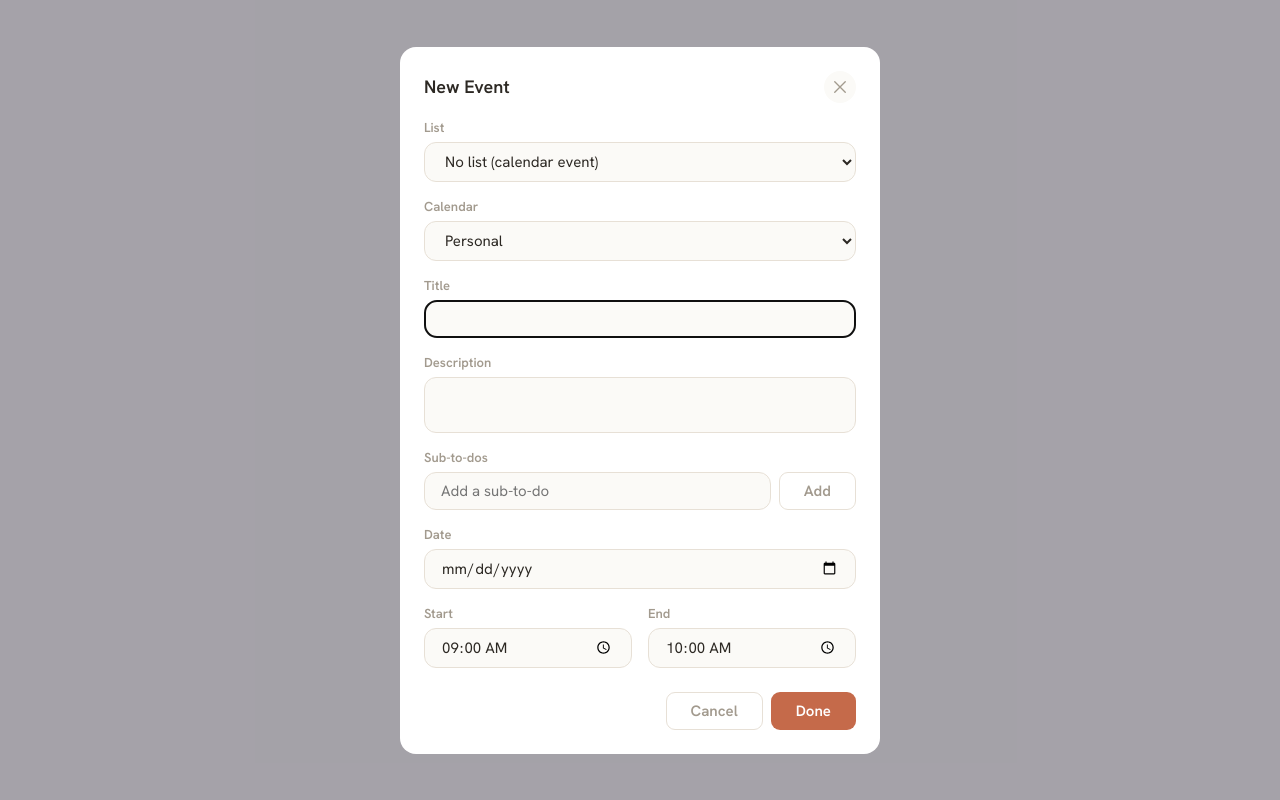
Test case: PlanItemModal › rejects a calendar event whose end is before its start
The width and height of the screenshot is (1280, 800).
In the field labelled "Title": (640, 318) [424,300,856,338], type "Meeting"
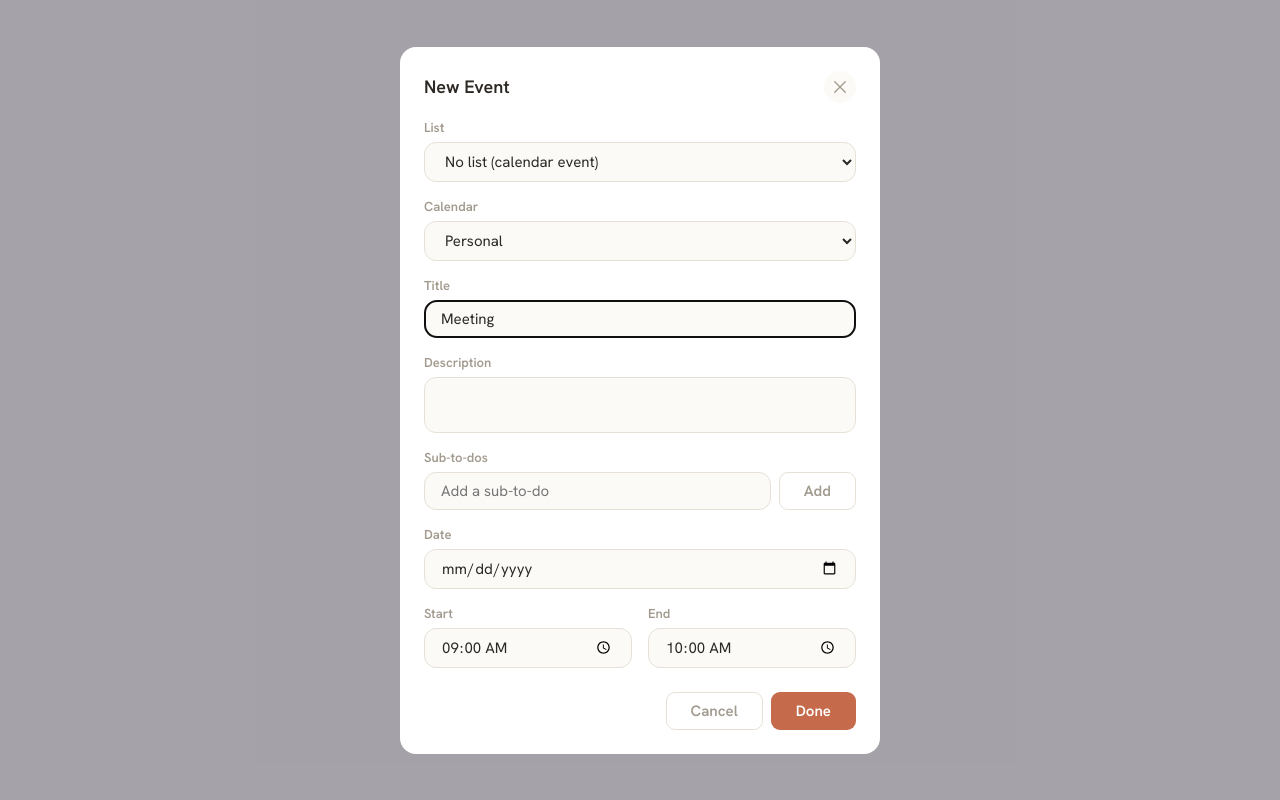
In the date field labelled "Date": (640, 568) [424,548,856,588], type "2026-07-15"
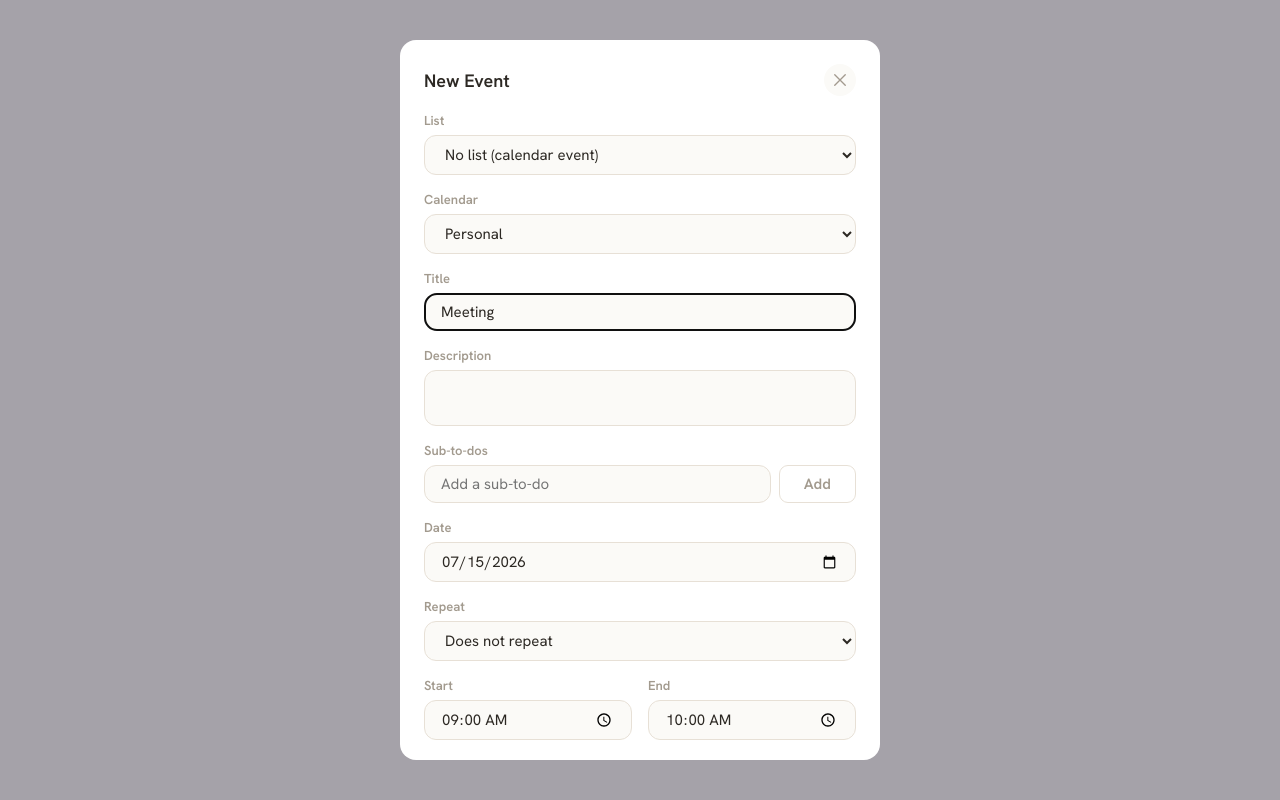
Replace the text in the time field labelled "End" with "08:00": (752, 720) [648,700,856,740]
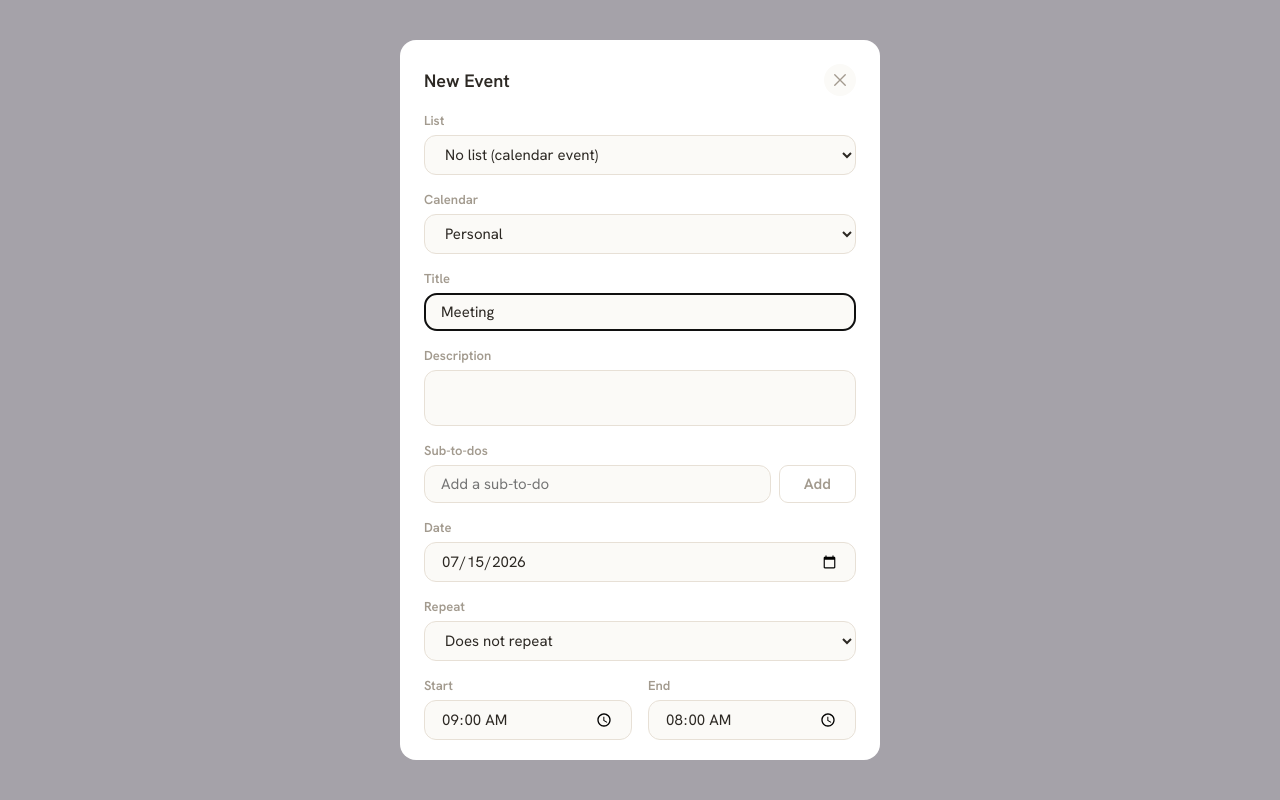
Leave the time field labelled "End", box [648,700,856,740]
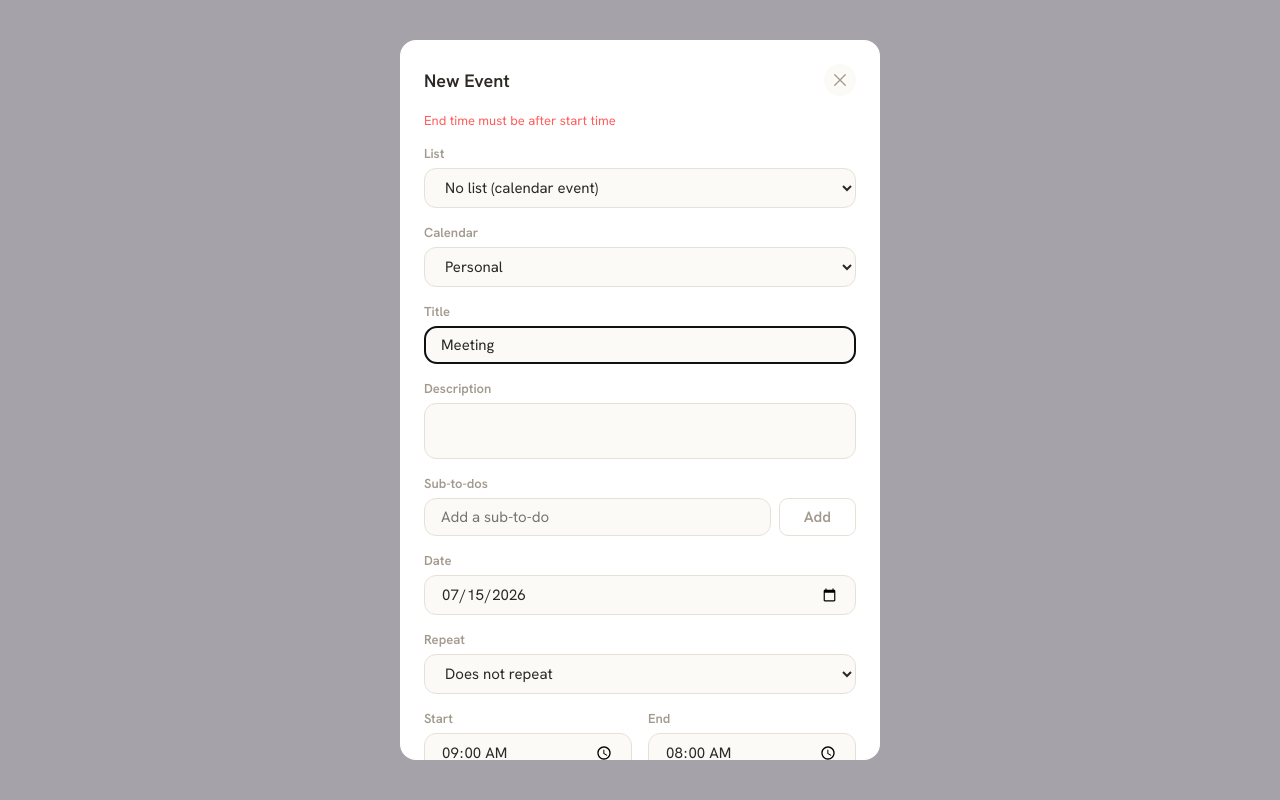
Result: the text "End time must be after start time" is shown at [424,112,616,129]
